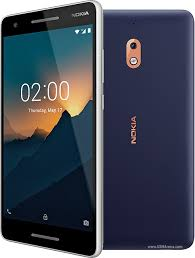nokia: (1, 1, 97, 258), (100, 3, 195, 254)
